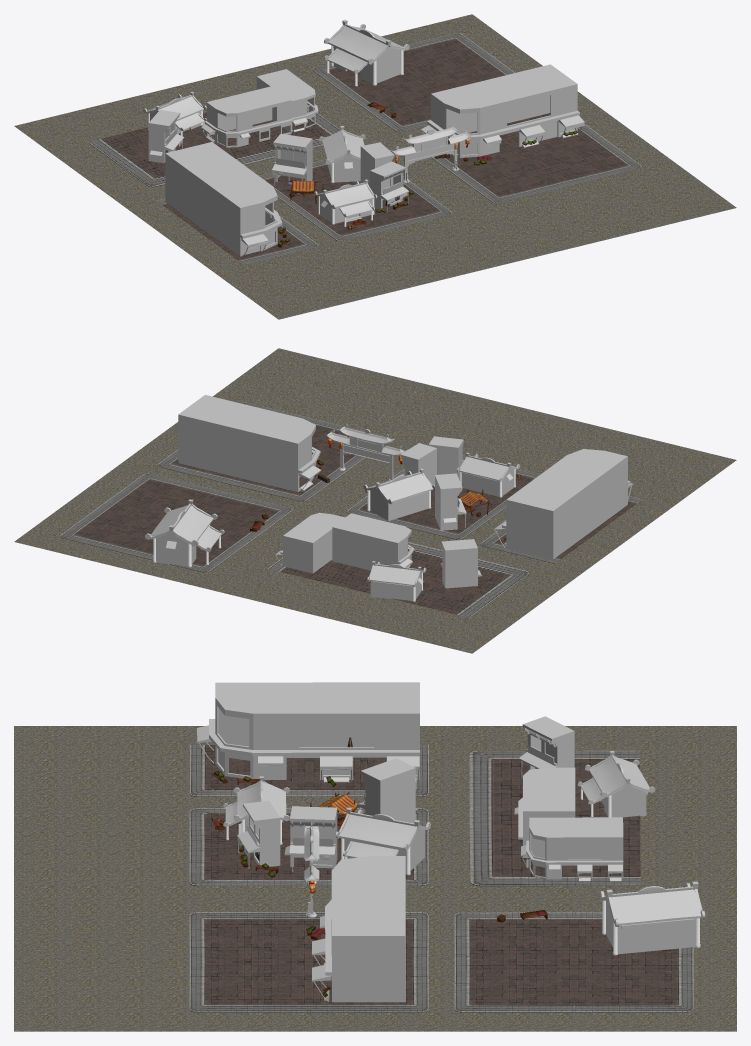
File: china tower.FBX
3 renders of one model, top to bottom at view 1: azimuth 30°, elevation 25°; view 2: azimuth 150°, elevation 25°; view 3: azimuth 270°, elevation 25°, orthographic. The views are drawn at different scales.
Parts seen in each view (by area): view 1: duong, nha8, nha 3, nen2, nen5, nen1, nen3, nha11, nha5, nha 1, nha 10, nha6 (+7 smaller); view 2: duong, nha8, nen5, nha 3, nen1, nen2, nha11, nha5, nen3, nha 10, nha6, nha 1 (+7 smaller); view 3: duong, nen5, nha 3, nen2, nha8, nen1, nen3, nha5, nha 10, nen4, nha6, nha12 (+7 smaller).
Part boxes in pixels (x1=…): duong: x1=14, y1=14, x2=736, y2=319; nha8: x1=420, y1=64, x2=584, y2=157; nha 3: x1=165, y1=142, x2=282, y2=256; nen2: x1=413, y1=113, x2=642, y2=203; nen5: x1=312, y1=33, x2=515, y2=132; nen1: x1=88, y1=106, x2=339, y2=187; nen3: x1=259, y1=159, x2=452, y2=241; nha11: x1=201, y1=86, x2=294, y2=147; nha5: x1=324, y1=19, x2=409, y2=86; nha 1: x1=314, y1=179, x2=377, y2=226; nha 10: x1=256, y1=69, x2=318, y2=131; nha6: x1=319, y1=126, x2=365, y2=182; duong: x1=14, y1=348, x2=736, y2=653; nha8: x1=178, y1=395, x2=321, y2=491; nen5: x1=60, y1=473, x2=292, y2=572; nha 3: x1=494, y1=449, x2=633, y2=559; nen1: x1=268, y1=542, x2=528, y2=617; nen2: x1=157, y1=402, x2=389, y2=501; nha11: x1=332, y1=513, x2=414, y2=570; nha5: x1=145, y1=499, x2=224, y2=567; nen3: x1=347, y1=455, x2=540, y2=539; nha 10: x1=275, y1=512, x2=344, y2=573; nha6: x1=363, y1=468, x2=434, y2=520; nha 1: x1=457, y1=452, x2=519, y2=497; duong: x1=14, y1=726, x2=736, y2=1031; nen5: x1=454, y1=912, x2=693, y2=1012; nha 3: x1=197, y1=682, x2=419, y2=783; nen2: x1=189, y1=912, x2=428, y2=1012; nha8: x1=311, y1=856, x2=405, y2=1002; nen1: x1=469, y1=750, x2=640, y2=886; nen3: x1=189, y1=808, x2=428, y2=885; nha5: x1=600, y1=881, x2=705, y2=955; nha 10: x1=520, y1=817, x2=623, y2=881; nen4: x1=190, y1=745, x2=428, y2=796; nha6: x1=336, y1=807, x2=430, y2=875; nha12: x1=577, y1=751, x2=655, y2=817.
Bounding box in the file's own units: 1500 × 242 × 1500.
